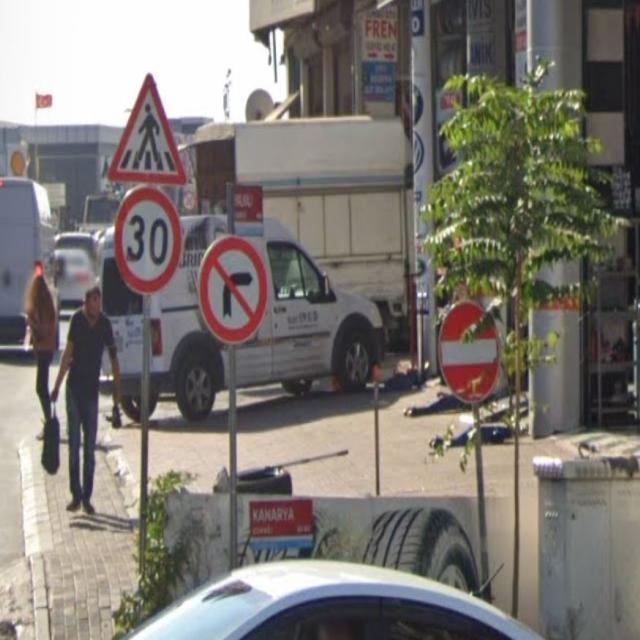30: (115, 186, 180, 295)
girisyok: (438, 301, 499, 404)
sagadonulmez: (200, 235, 266, 342)
